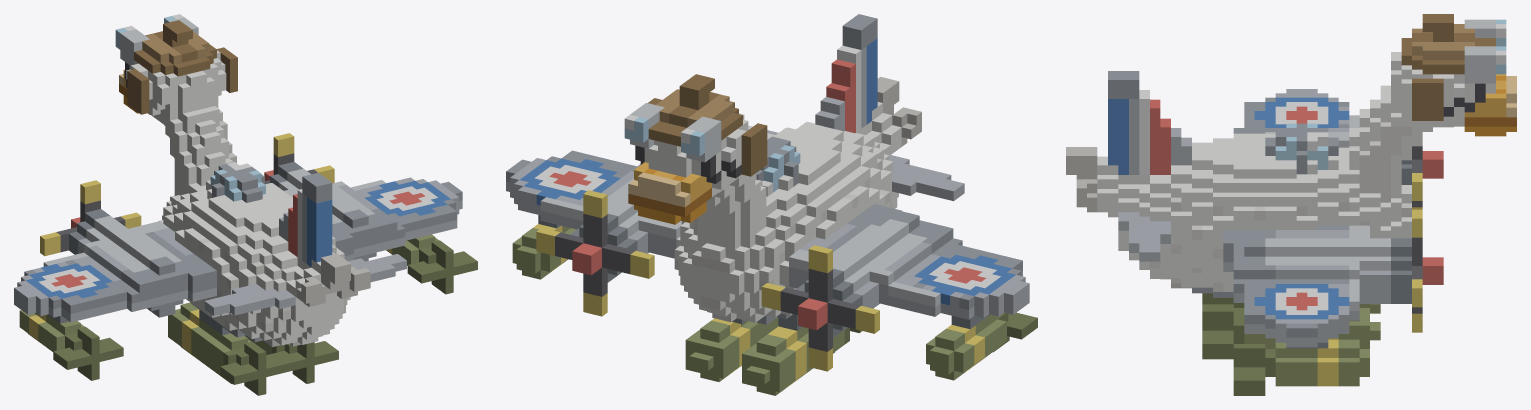
Rendered from BombombiniGusini.glb.
The picture shows the model from 3 angles, left to right: view 1: azimuth 30°, elevation 25°; view 2: azimuth 150°, elevation 25°; view 3: azimuth 270°, elevation 25°; orthographic projection. The views are drawn at different scales.
Parts seen in each view (by area): view 1: geometry_0; view 2: geometry_0; view 3: geometry_0.
Boxes of the visible parts, x1,y1,x2,y2 form: geometry_0: (14, 14, 477, 395); geometry_0: (506, 14, 1037, 395); geometry_0: (1066, 14, 1516, 395).
Bounding box in the file's own units: 1.59 × 1 × 1.26.
